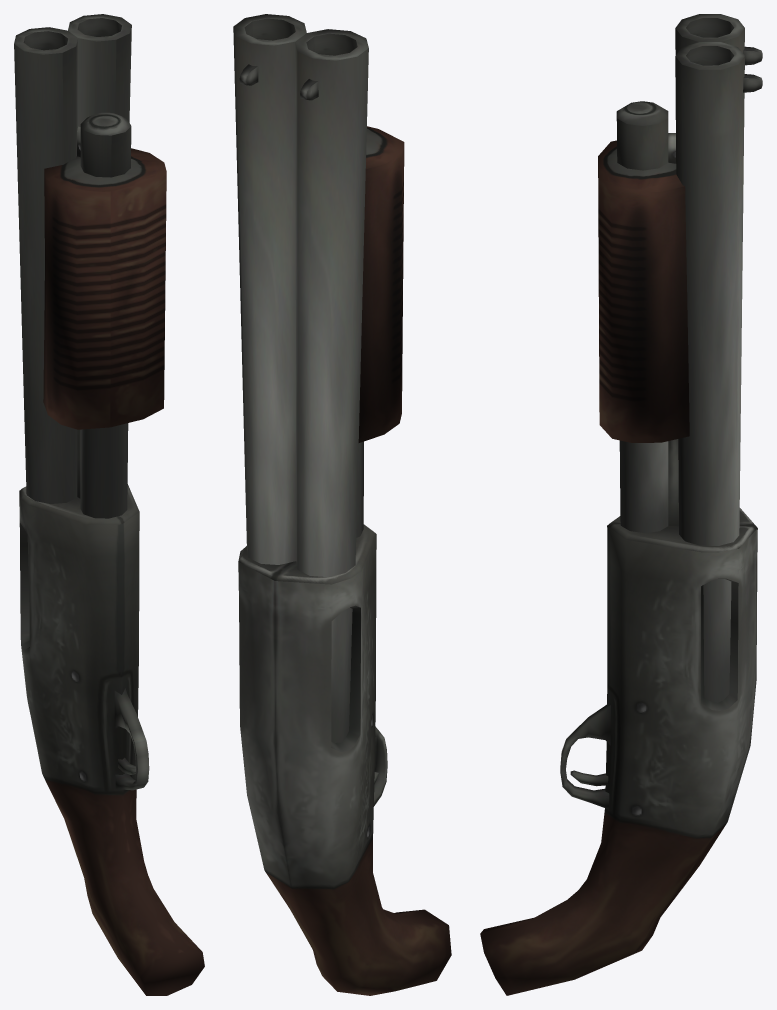
File: Shotgun.FBX
3 views of the same model, side by side, from view 1: azimuth 30°, elevation 25°; view 2: azimuth 150°, elevation 25°; view 3: azimuth 270°, elevation 25° (orthographic). The views are drawn at different scales.
Visible parts, largest first — view 1: Shotgun; view 2: Shotgun; view 3: Shotgun.
Part boxes in pixels (bbox=[...]): Shotgun: bbox=[14, 14, 204, 995]; Shotgun: bbox=[233, 14, 451, 995]; Shotgun: bbox=[480, 14, 762, 995].
Size of the model in its own units: 0.1786 by 1.4 by 0.3781.
